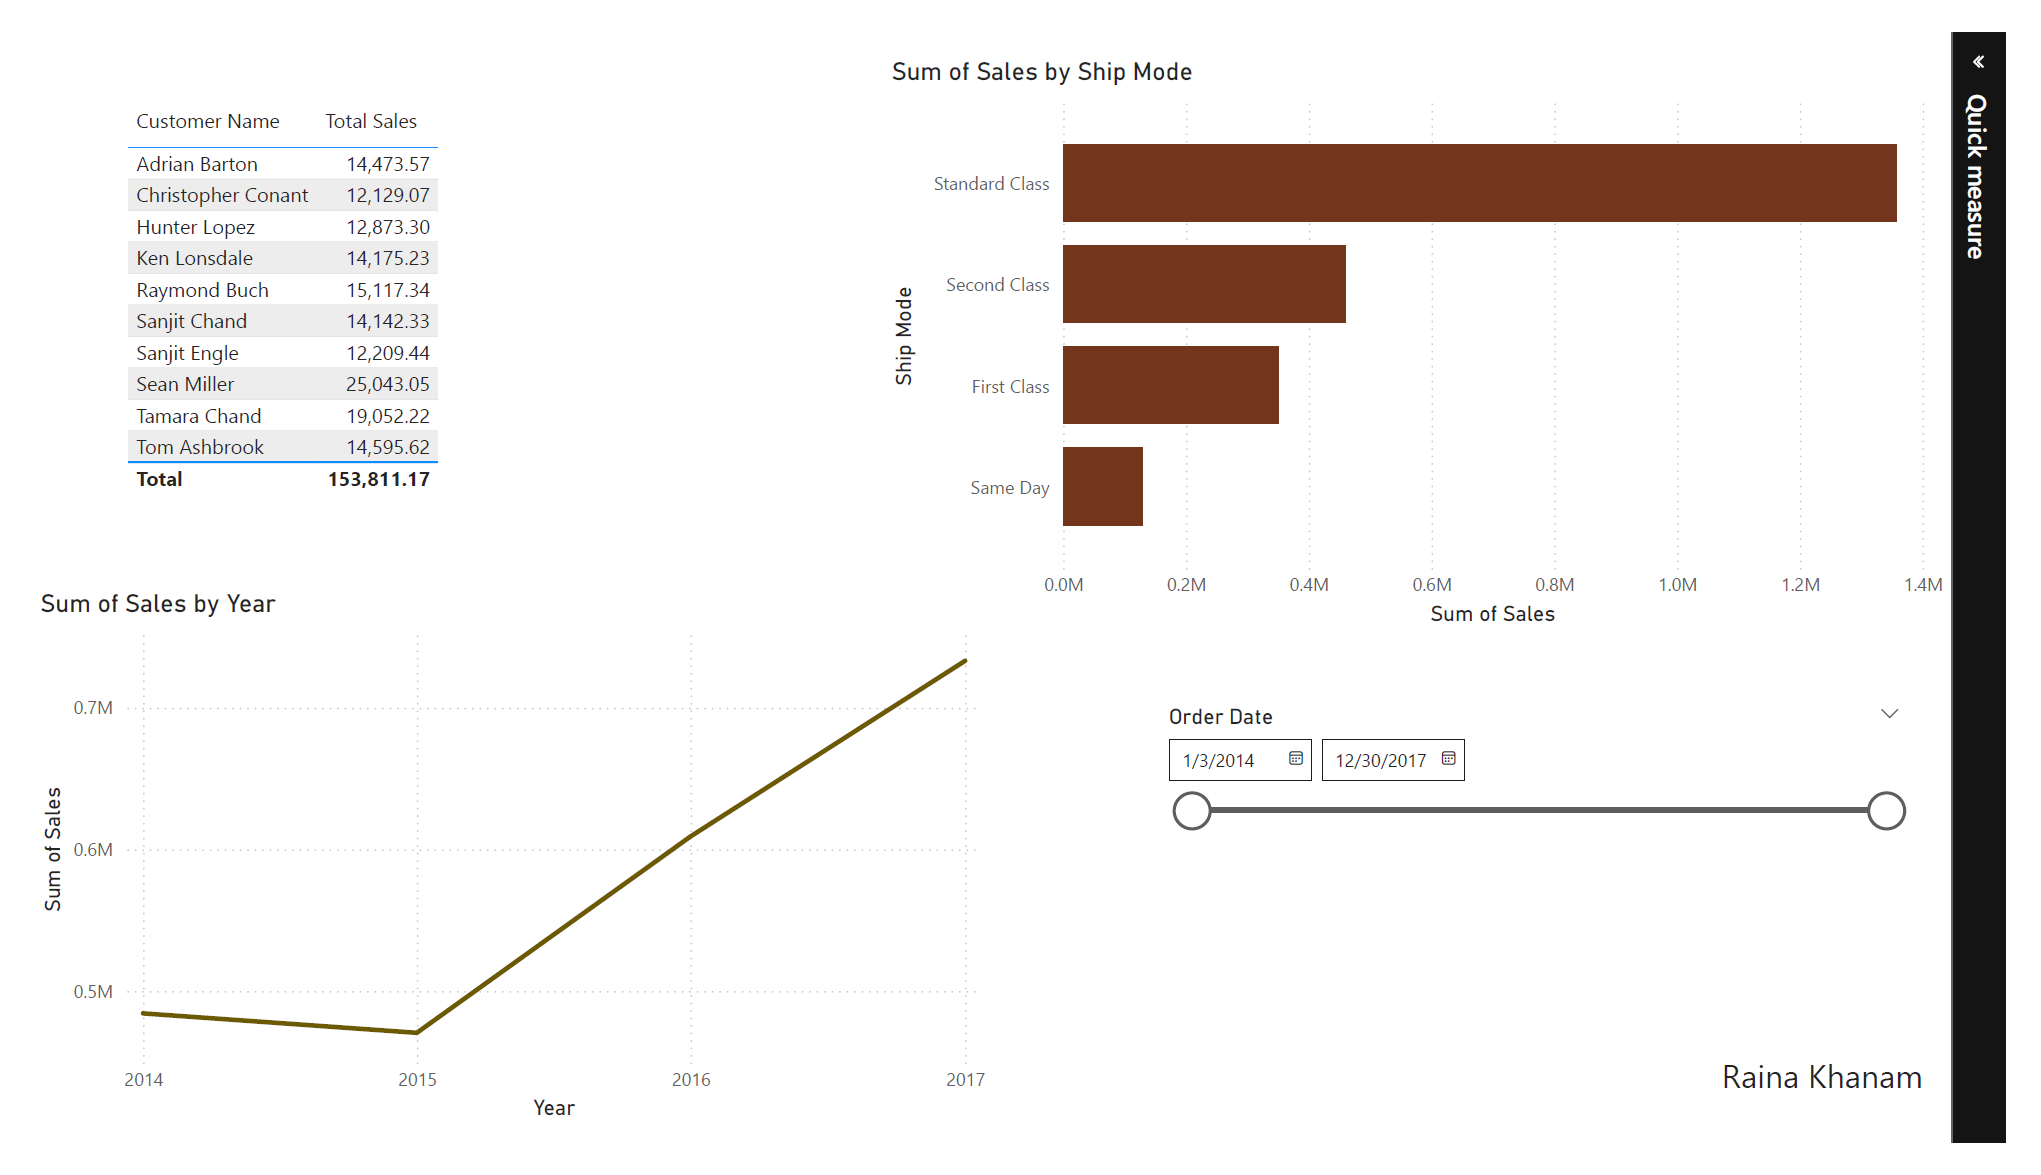

This screenshot's page, from the dashboard's own definition file:
{"tool":"powerbi","page":{"name":"Time & Customer Analysis","canvas":[1280,720],"ordinal":2},"visuals":[{"type":"lineChart","fields":{"Category":["superstore.Order Date.Variation.Date Hierarchy.Year","superstore.Order Date.Variation.Date Hierarchy.Quarter","superstore.Order Date.Variation.Date Hierarchy.Month","superstore.Order Date.Variation.Date Hierarchy.Day"],"Y":["Sum(superstore.Sales)"]},"box":[0,360,640,360],"z":0},{"type":"tableEx","fields":{"Values":["superstore.Customer Name","superstore.Total Sales"]},"box":[57.5,32.5,227.5,275],"z":1},{"type":"barChart","fields":{"Category":["superstore.Ship Mode"],"Y":["Sum(superstore.Sales)"]},"box":[567.5,5,712.5,385],"z":2},{"type":"slicer","fields":{"Values":["superstore.Order Date"]},"box":[745,432.5,512.5,242.5],"z":3},{"type":"textbox","box":[1122,666,158,54],"z":4}]}

Visuals, with their boxes on the page's 1280x720 design canvas (x1, y1, x2, y2). These are canvas units, not pixel positions in the 2041x1175 screenshot, which may show the page scaled, cropped or inside an application window:
lineChart - superstore.Order Date.Variation.Date Hierarchy.Year x superstore.Order Date.Variation.Date Hierarchy.Quarter: locate(0, 360, 640, 720)
tableEx - superstore.Customer Name x superstore.Total Sales: locate(58, 32, 285, 308)
barChart - superstore.Ship Mode x Sum(superstore.Sales): locate(568, 5, 1280, 390)
slicer - superstore.Order Date: locate(745, 432, 1258, 675)
textbox: locate(1122, 666, 1280, 720)
